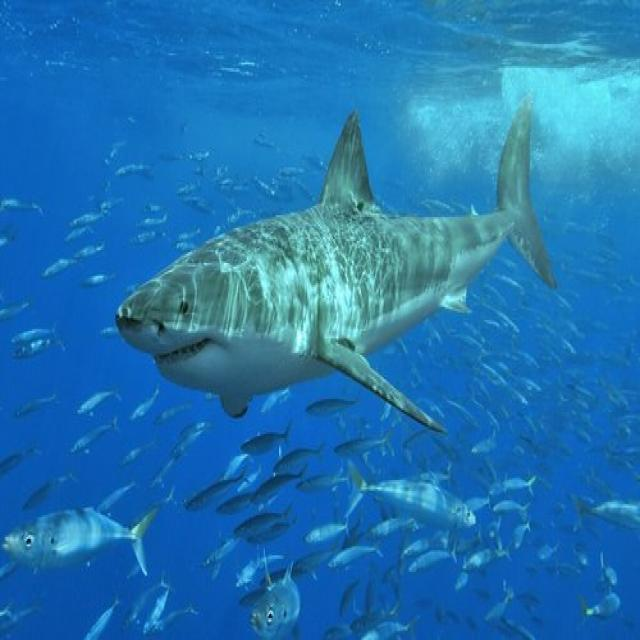shark: (116, 99, 555, 432)
